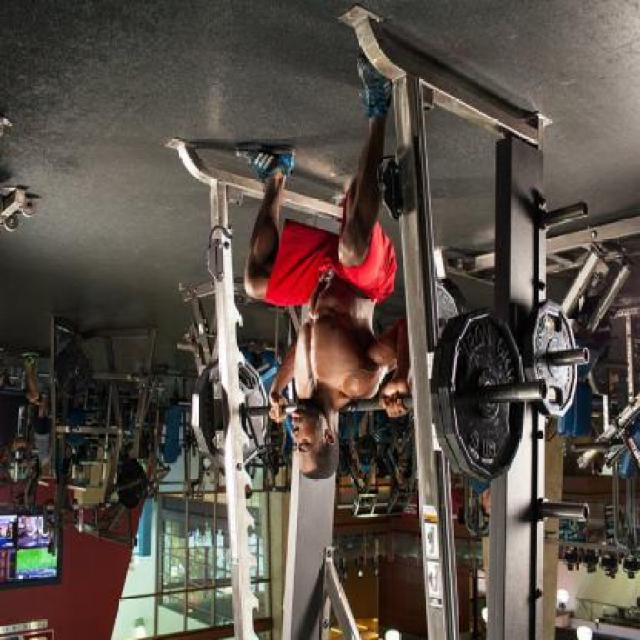Barbell: (536, 377, 550, 403), (580, 348, 591, 364)
